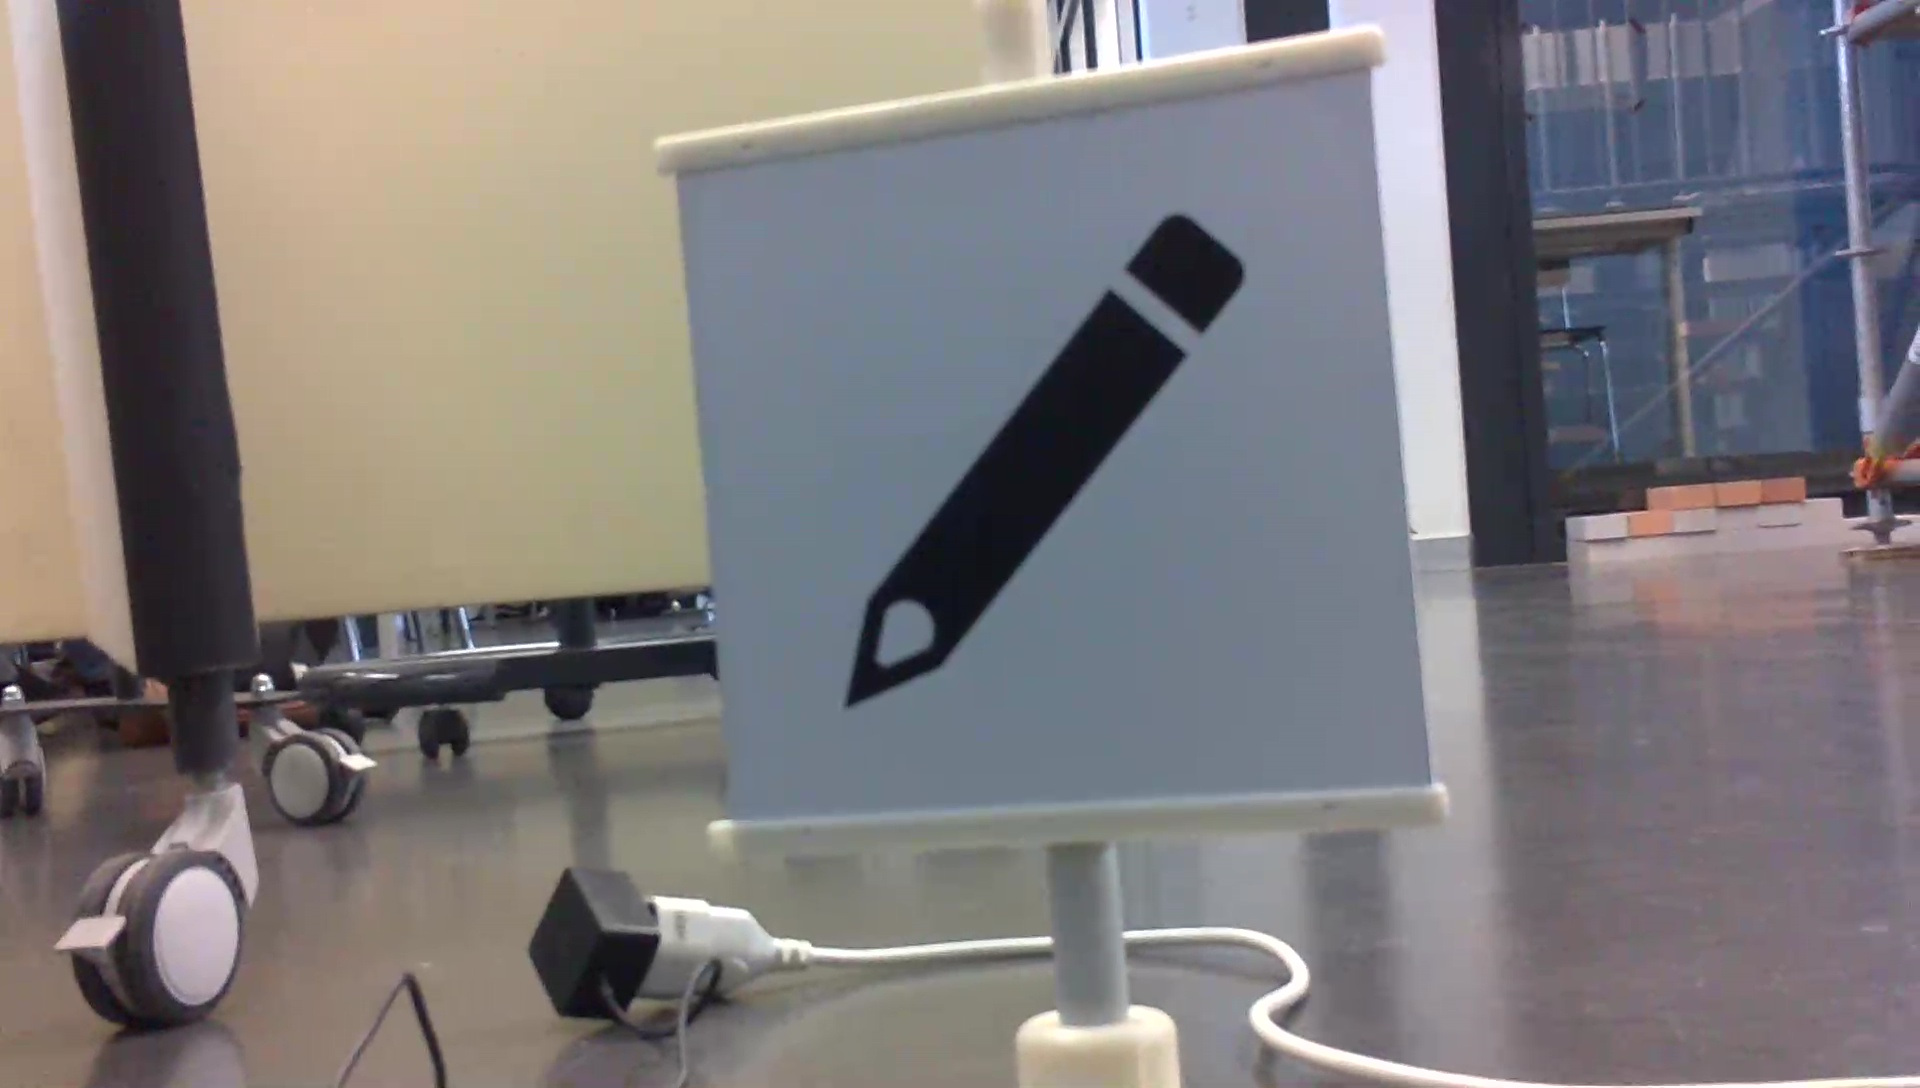pencil: (824, 204, 1255, 720)
